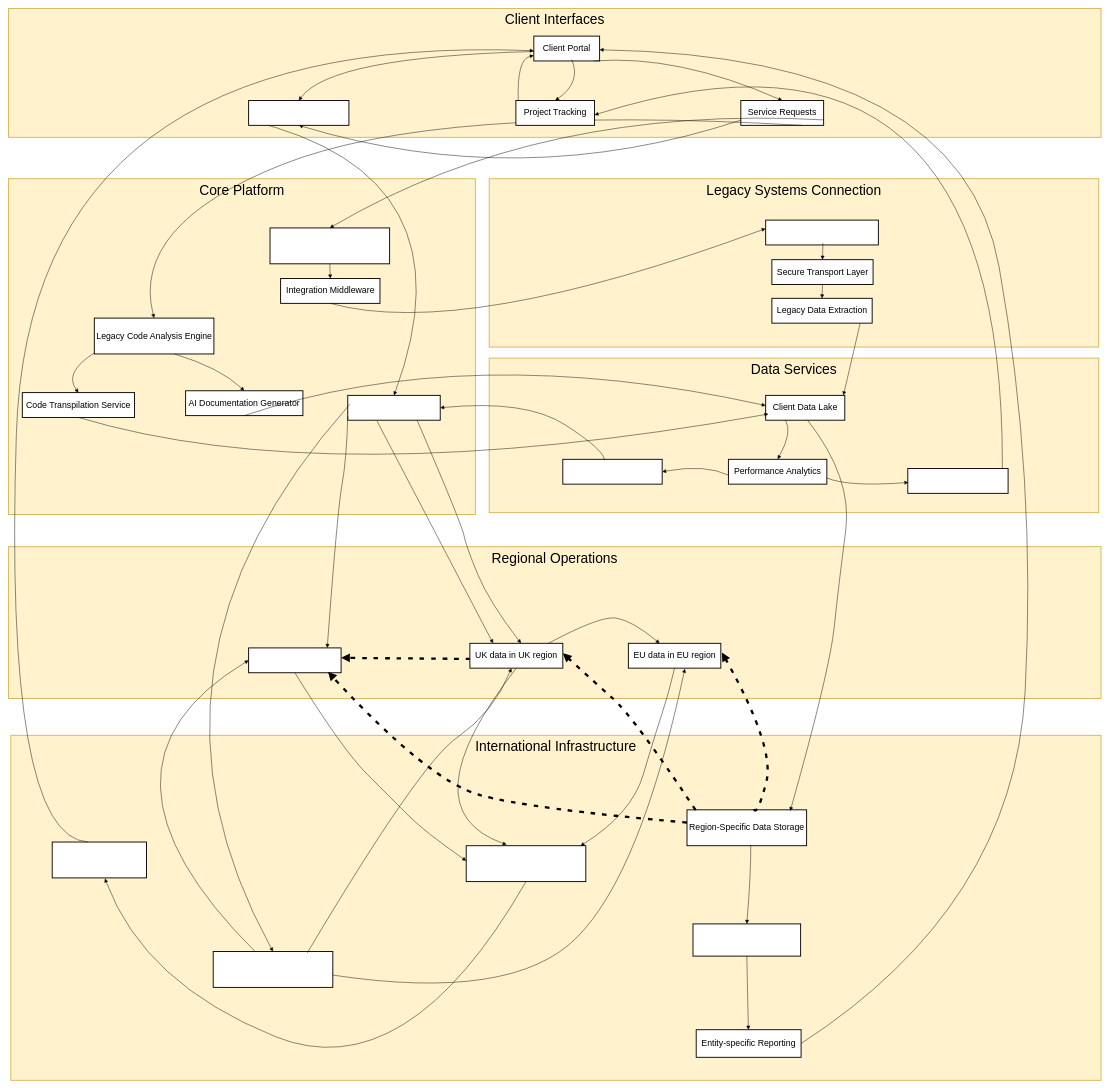
Some shapes in this 1109 by 1088 pixel diagram are drawn without their labels. Here are the shapes that lost their labels. From the top down, the centre of each, then its label:
At (298,113): "Documentation Access".
At (329,245): "Knowledge Management System".
At (822,232): "zSeries/iSeries Connectors".
At (393,407): "Project Management".
At (612,471): "Resource Optimization".
At (957,481): "ROI Calculation Engine".
At (294,660): "US data in US region".
At (99,859): "Multi-currency Billing".
At (526,863): "Cross-border Payment Processing".
At (746,939): "Compliance Management".
At (273,969): "Multi-entity Resource Allocation".
